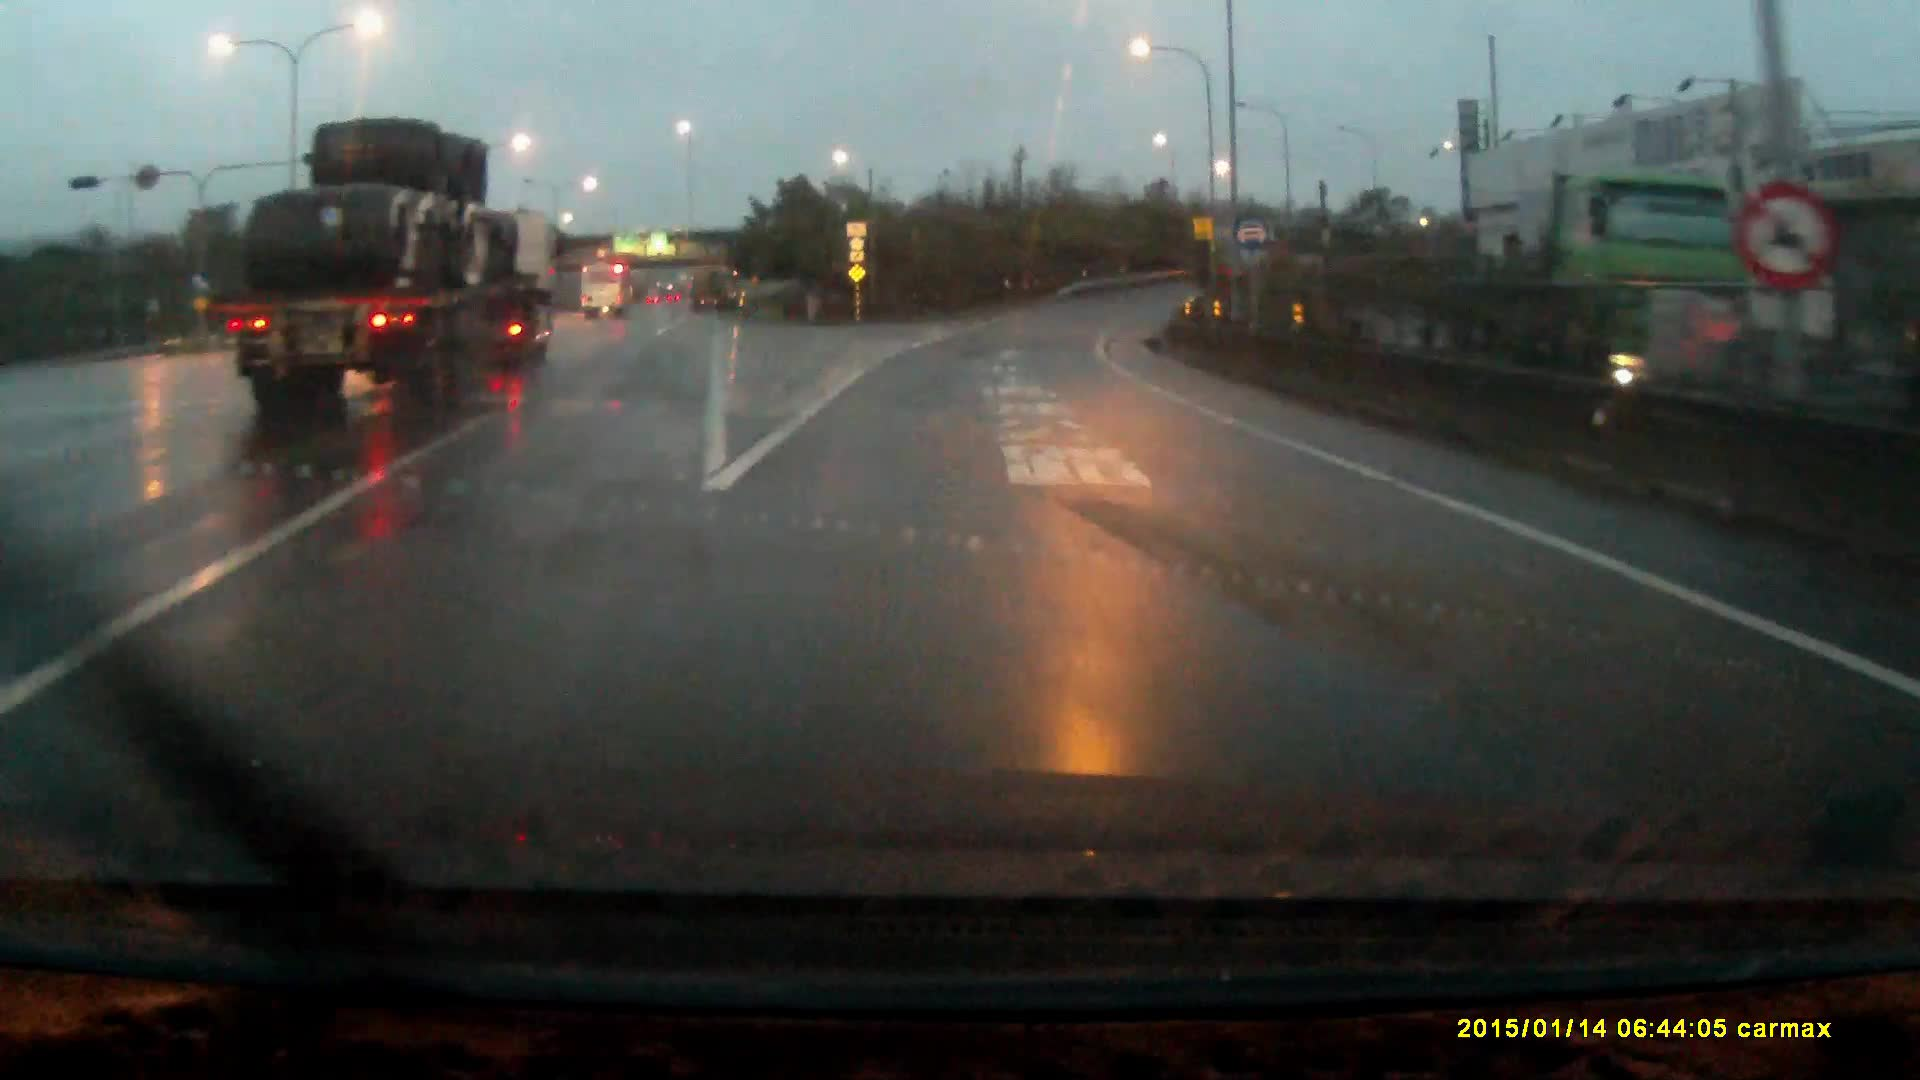vehicle: (225, 117, 562, 411), (580, 264, 634, 319)
